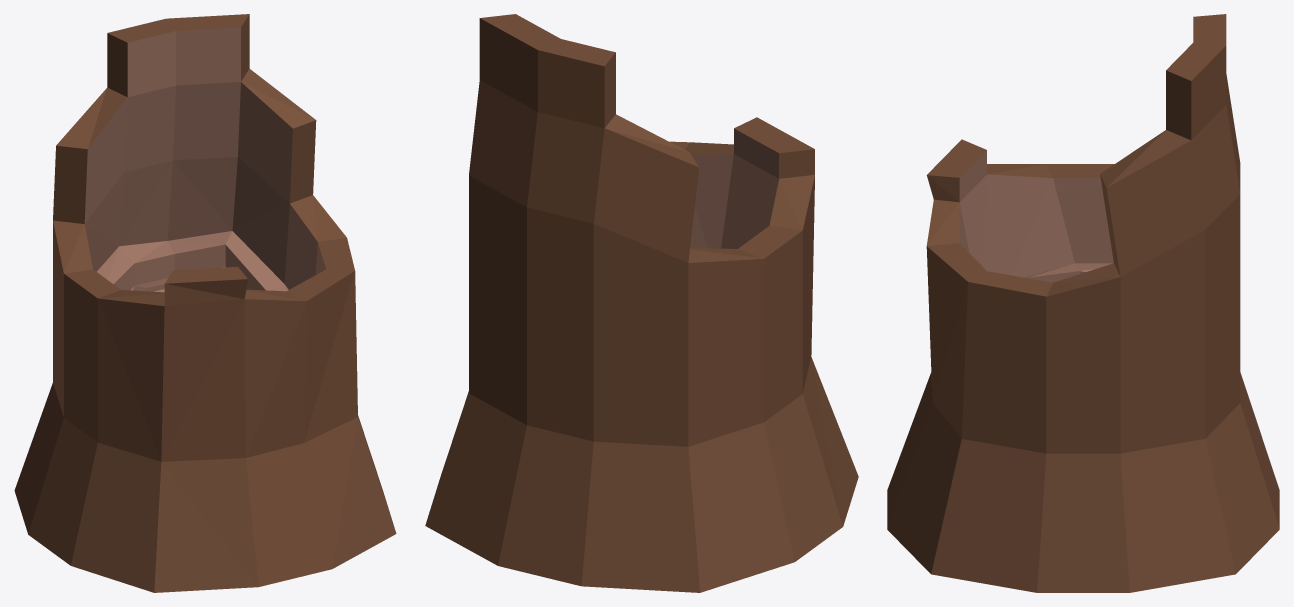
The model's file is Stump1.fbx.
The picture shows the model from 3 angles, left to right: view 1: azimuth 30°, elevation 25°; view 2: azimuth 150°, elevation 25°; view 3: azimuth 270°, elevation 25°; orthographic projection. The views are drawn at different scales.
Parts seen in each view (by area): view 1: Stump1; view 2: Stump1; view 3: Stump1.
Boxes of the visible parts, box(x1,y1,x2,y2) form: Stump1: box(14, 14, 396, 592); Stump1: box(425, 14, 858, 592); Stump1: box(887, 14, 1279, 592).
Bounding box in the file's own units: 494 × 664 × 494.
